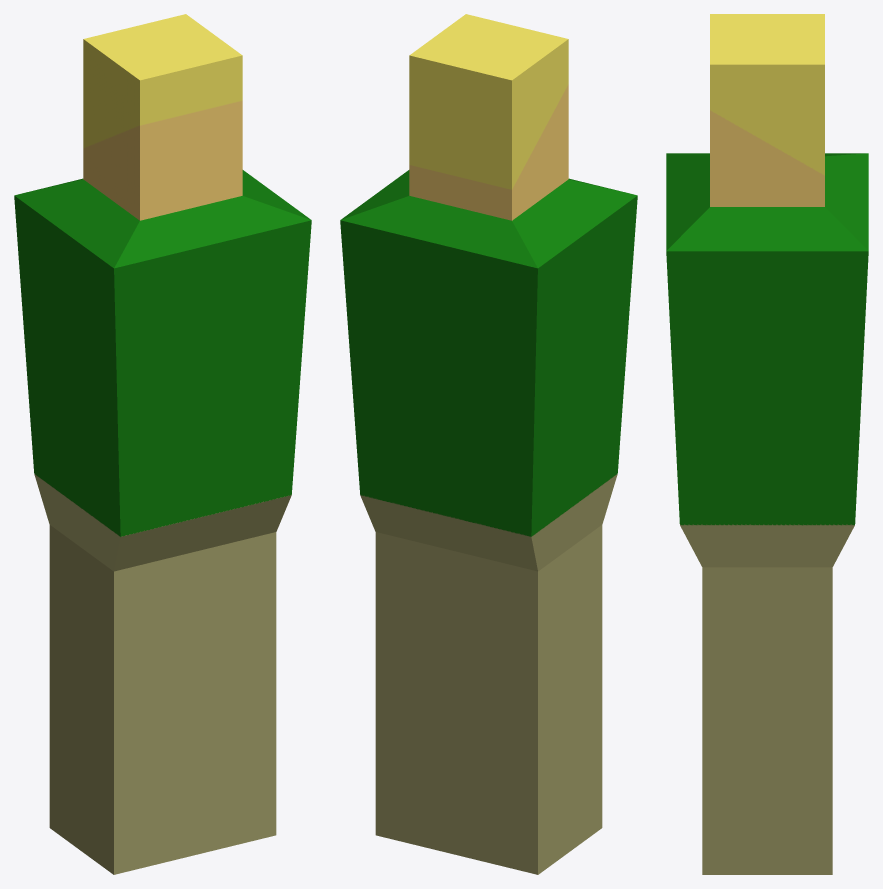
The model's file is Person_M.glb.
The picture shows the model from 3 angles, left to right: view 1: azimuth 30°, elevation 25°; view 2: azimuth 150°, elevation 25°; view 3: azimuth 270°, elevation 25°; orthographic projection.
Parts seen in each view (by area): view 1: Person_M; view 2: Person_M; view 3: Person_M.
Part boxes in pixels (box(x1,y1,x2,y2)): Person_M: box(14, 14, 311, 874); Person_M: box(340, 14, 637, 874); Person_M: box(666, 14, 868, 874).
Size of what is drawn, in the model's own units: 0.4439 by 1.68 by 0.3881.
Materials: 1 (1 with a texture image).
